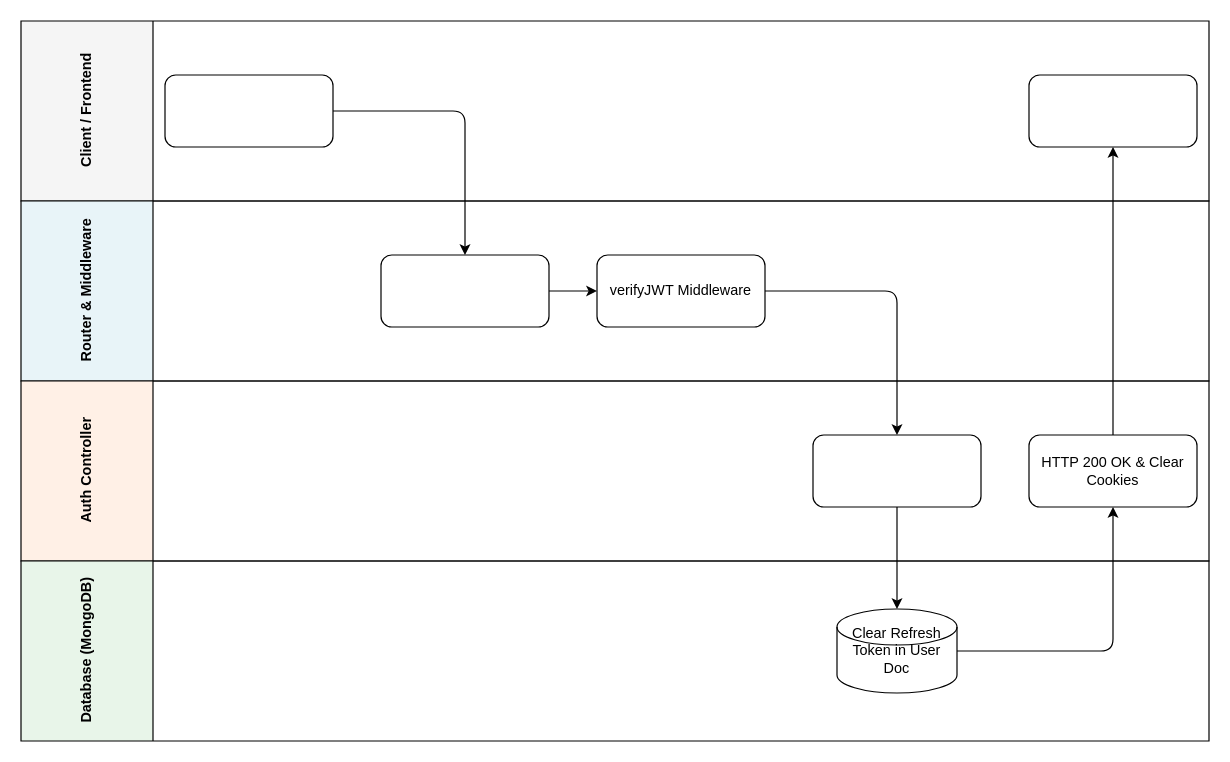
The diagram is 1230 pixels wide and 762 high, and some of its shapes have lost their labels. The shapes that lost their labels are listed below. From the top down, each one's centre as x and y in pixels, then its label:
At pixel 248 110: "User Clicks Logout Button".
At pixel 1112 110: "Clear Frontend Client Auth State".
At pixel 464 290: "POST /logout".
At pixel 896 470: "User.findByIdAndUpdate(userId, { refreshToken: null })".
